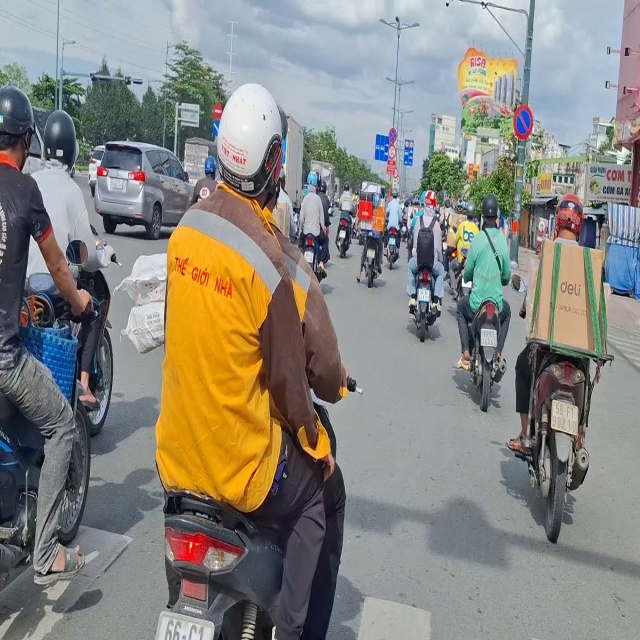cam do xe: (504, 96, 540, 146)
